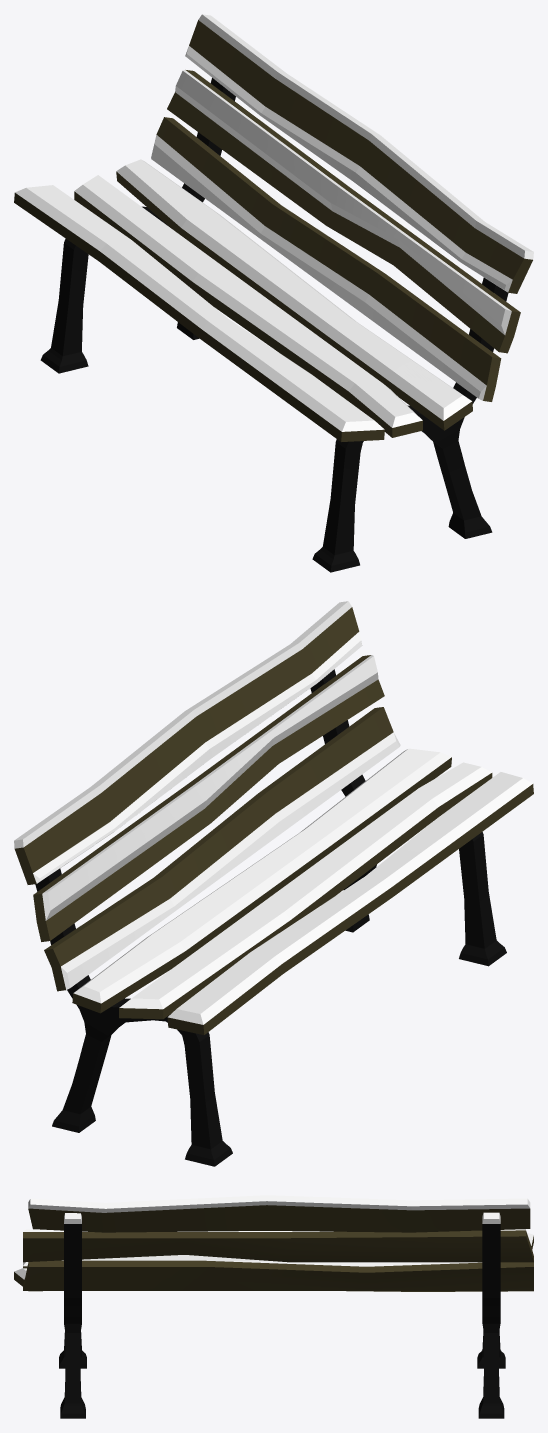
Rendered from bank.FBX.
3 views of the same model, one above another, from view 1: azimuth 30°, elevation 25°; view 2: azimuth 150°, elevation 25°; view 3: azimuth 270°, elevation 25° (orthographic). The views are drawn at different scales.
Parts seen in each view (by area): view 1: bank; view 2: bank; view 3: bank.
Boxes of the visible parts, left/top/right/bottom form: bank: left=14, top=14, right=533, bottom=572; bank: left=14, top=601, right=533, bottom=1166; bank: left=14, top=1195, right=533, bottom=1418.
Bounding box in the file's own units: 31.22 × 44.43 × 91.57.
